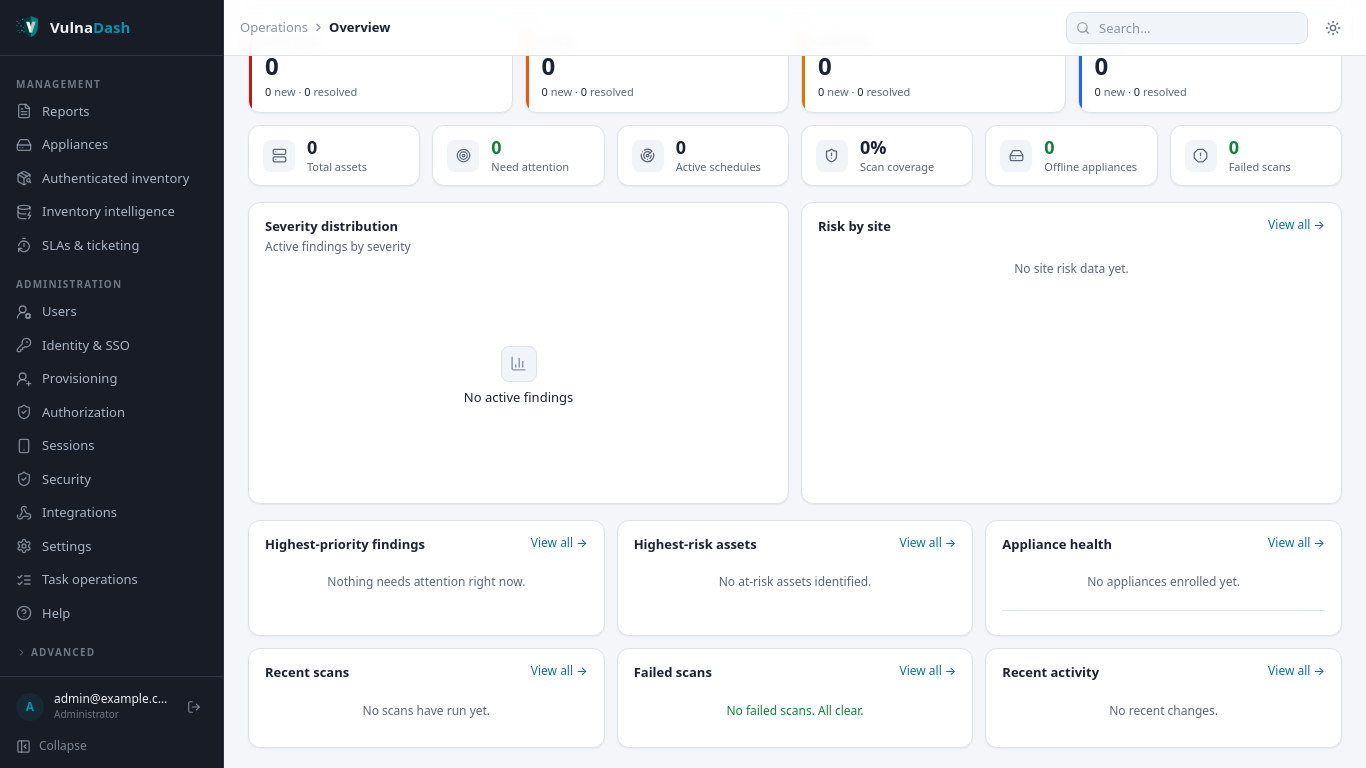
Test: experience-aware route catalogue › puts non-core Small Business routes under collapsed Advanced navigation
(page scrolled)
expect the button "Pentest" is not shown: met
Click the button "Advanced". click: click(112, 652)
box: 8,644 -> 215,660
(page scrolled)
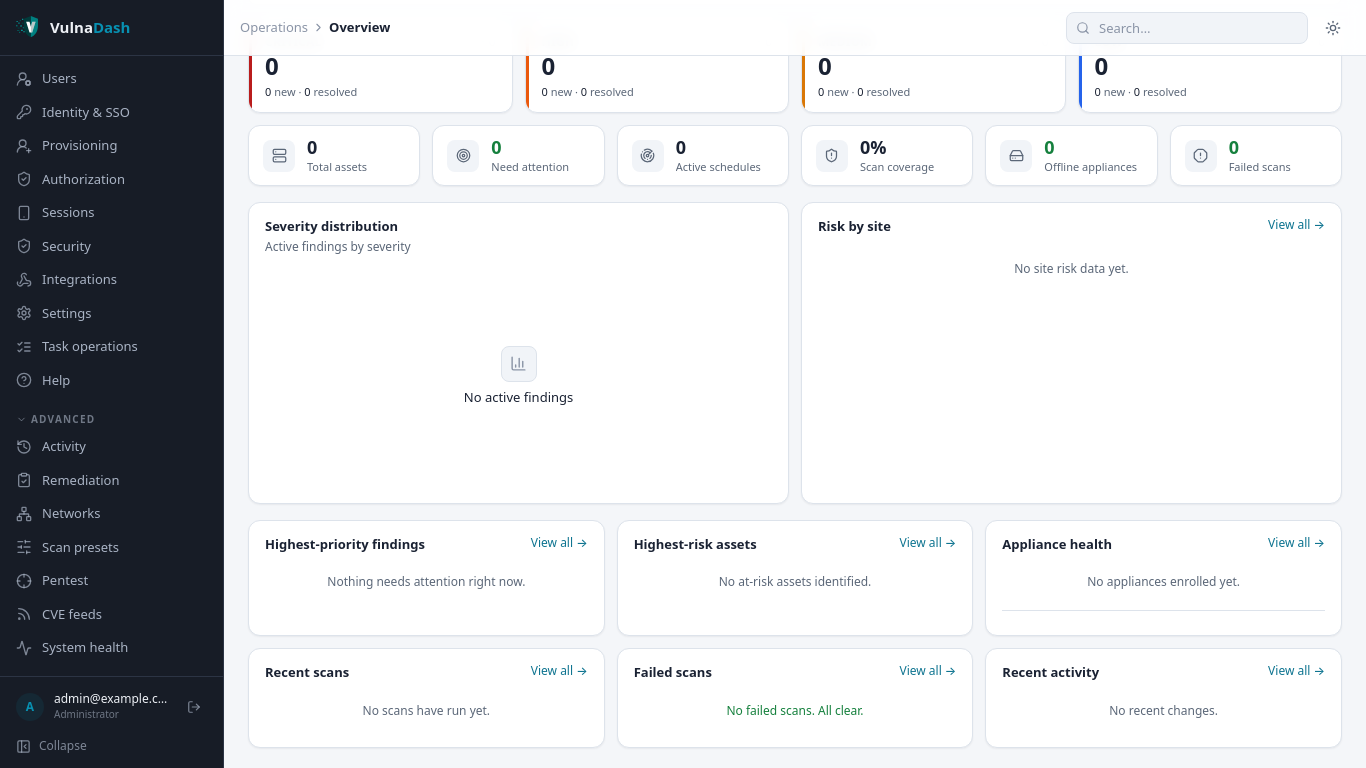
expect the button "Pentest" is shown: met, box 8,564 -> 215,596
